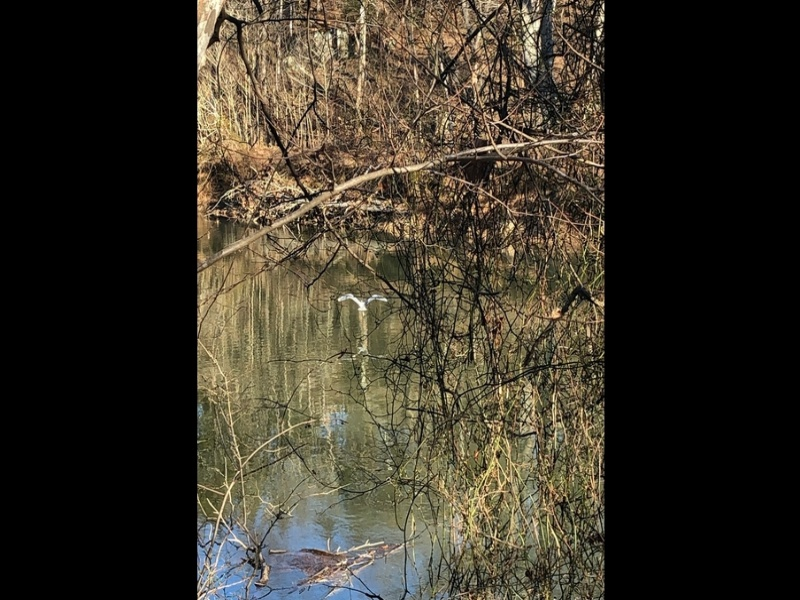heron: (336, 292, 392, 316)
